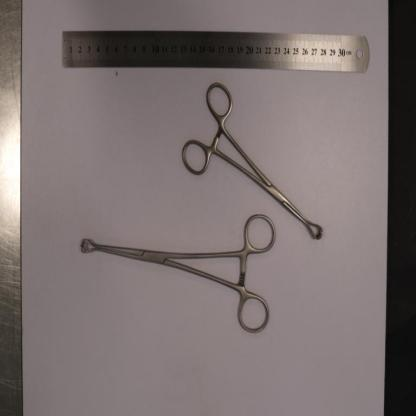8 Babcock Tissue Forceps: (81, 216, 276, 333)
Babcock Tissue Forceps: (182, 85, 322, 239)
